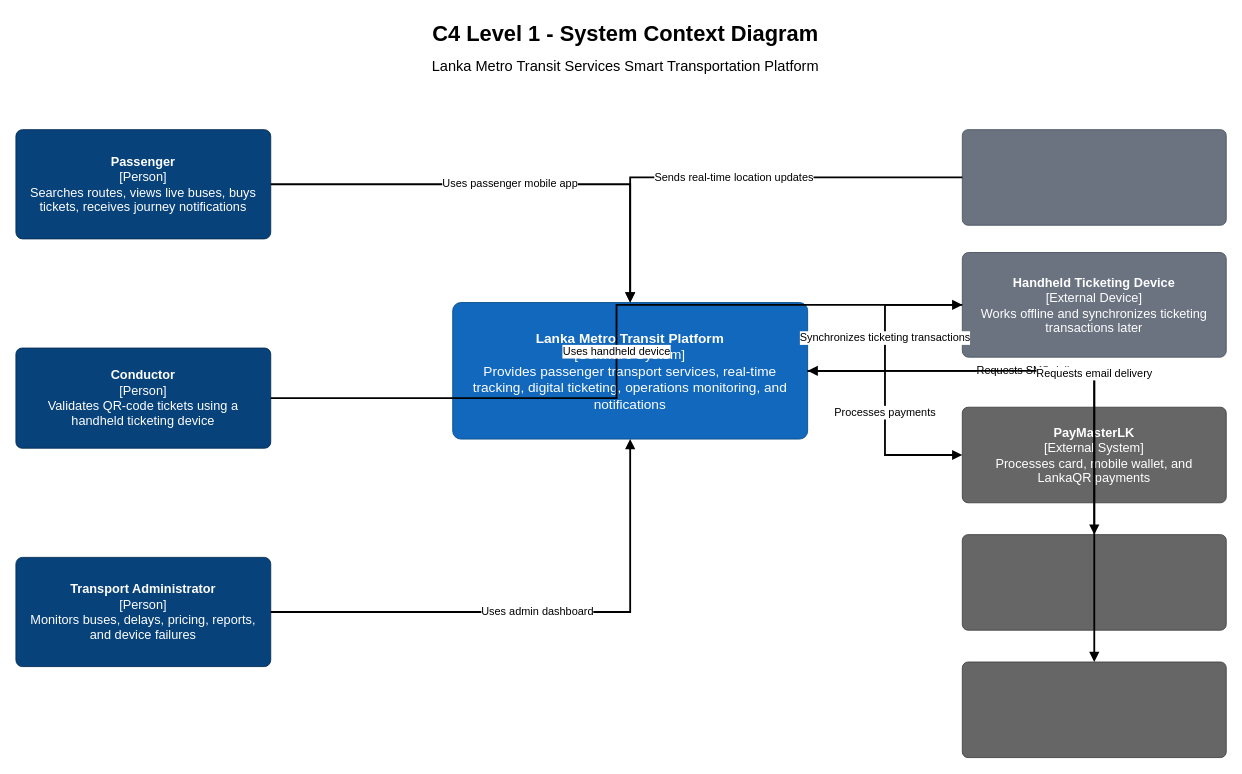
Some shapes in this 1242 by 774 pixel diagram are drawn without their labels. The box of each missing label's shape, as (x1, y1, x2, y2) in pixels:
Bus GIS Tracking Device [External Device] Sends periodic bus location updates: (961, 129, 1226, 225)
Mailgun [External System] Sends critical payment failure email alerts: (961, 661, 1226, 758)
NotifyLK [External System] Sends SMS delay notifications to affected passengers: (961, 534, 1226, 630)
